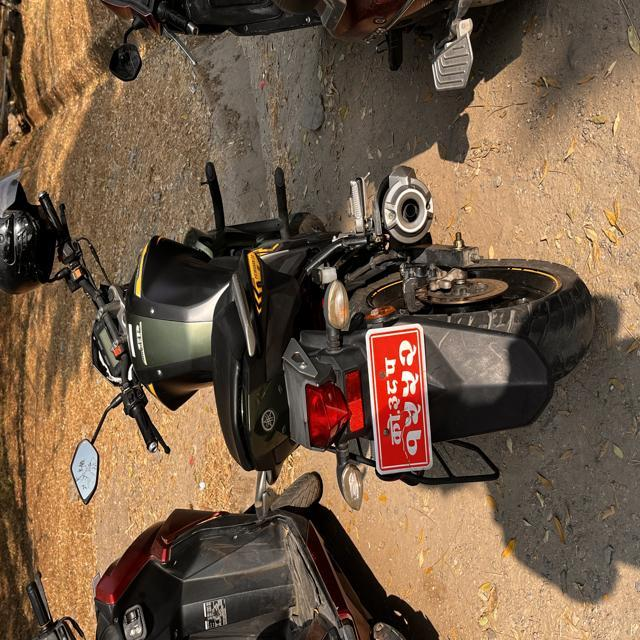license_plate: (347, 318, 442, 485)
